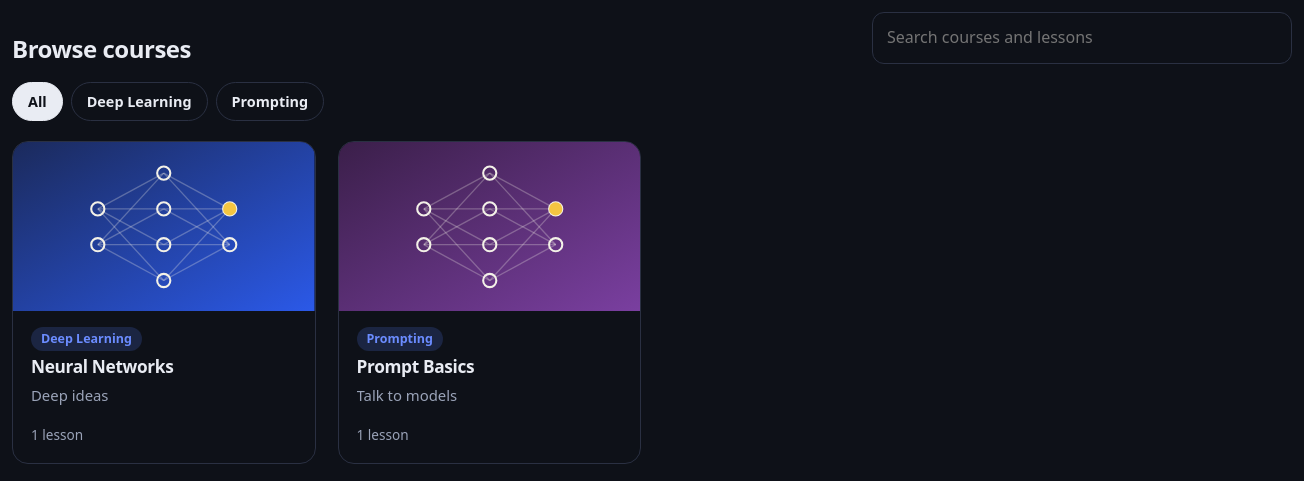
Test case: CourseBrowser › filters by category and shows a message when nothing matches
Click the button "Prompting".
click(270, 101)  # box top-left (216, 82), bottom-right (324, 121)
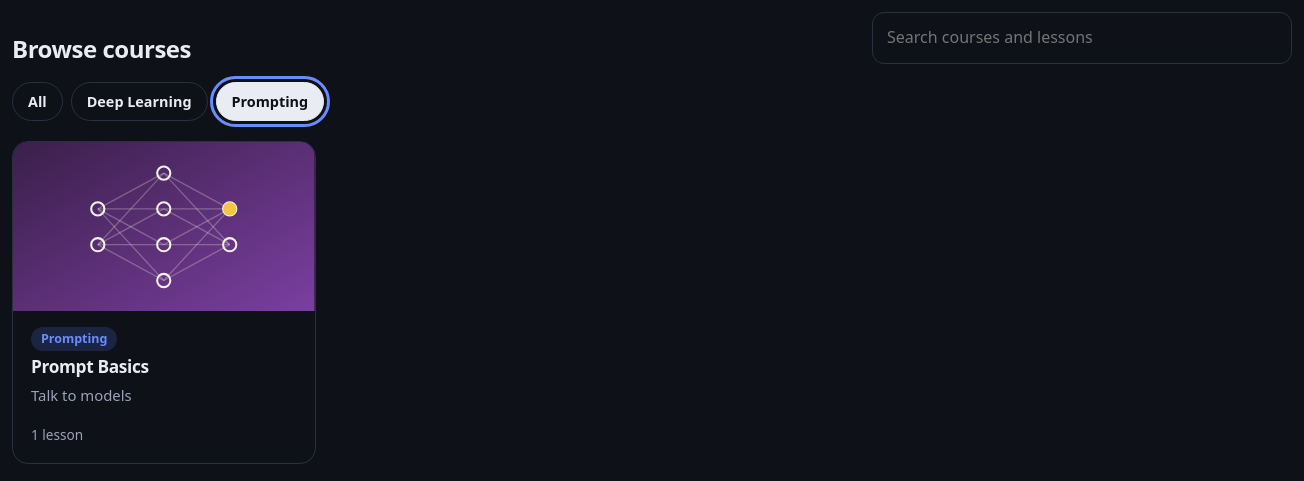
Check: the number of links is 1, box top-left (12, 141), bottom-right (316, 464)
Type "zzzz" into the search field labelled "Search courses and lessons".
click(1082, 38); type("zzzz")  # box top-left (872, 12), bottom-right (1292, 64)
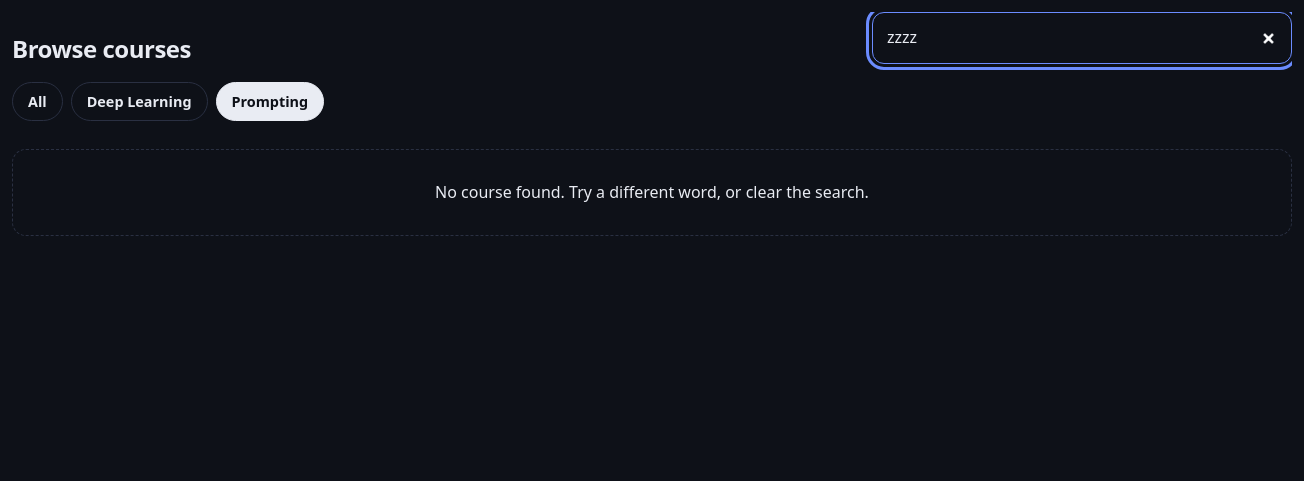
Check: the text "No course found. Try a different word, or clear the search." is shown, box top-left (12, 149), bottom-right (1292, 236)
